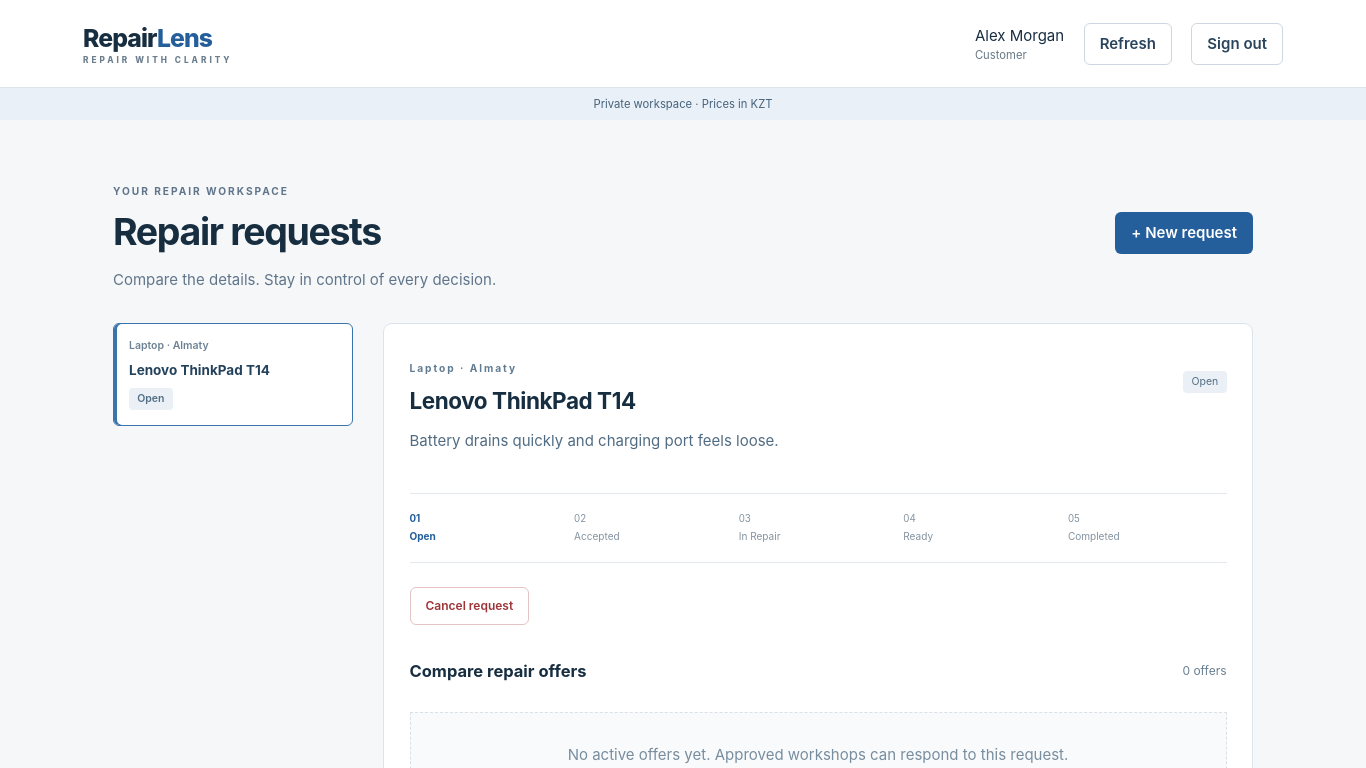
Test: clears private UI on session expiry and supports a fresh sign in
Expected: the heading "Repair requests" is shown, [113,209,381,254]
Click the button "Cancel request": (469, 606) [410,587,529,625]
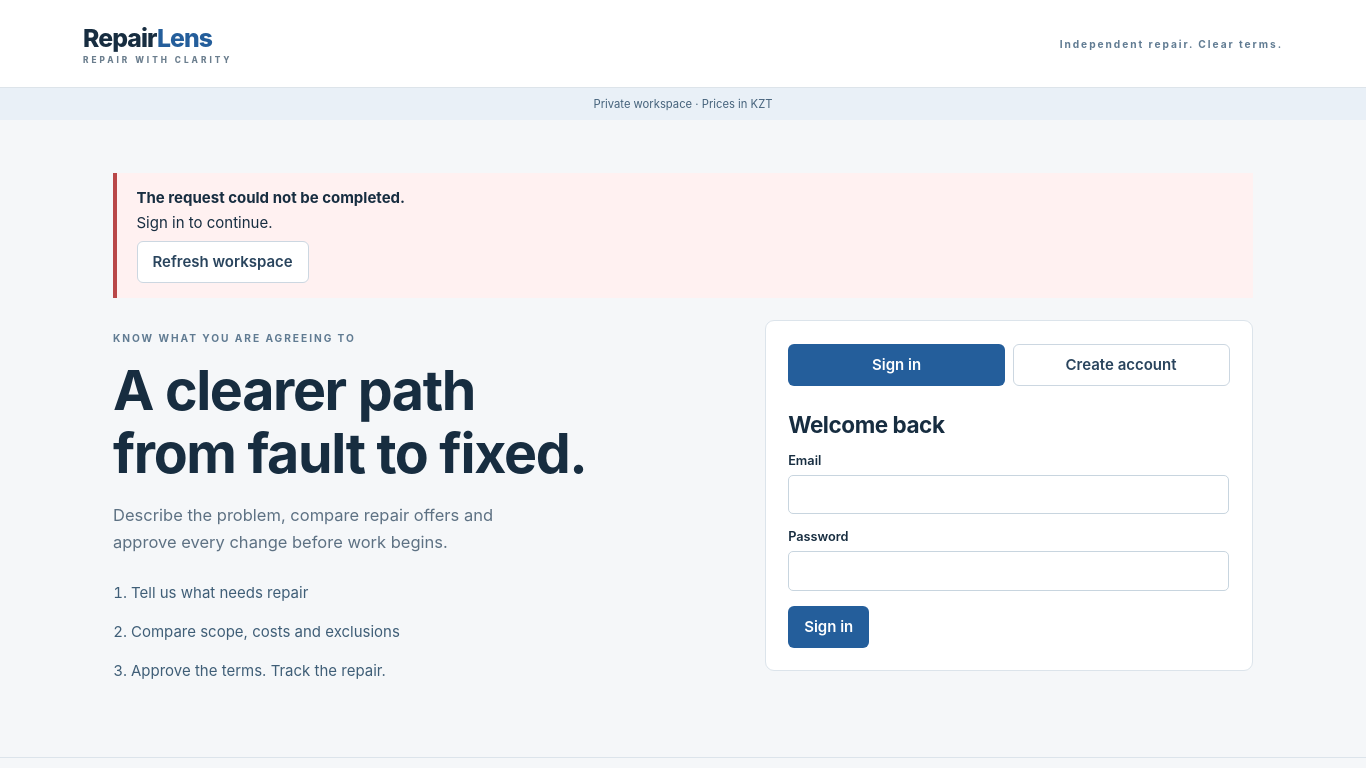
Result: the heading "Welcome back" is shown at [788,411,944,438]
Result: the button "ThinkPad T14" is gone
Result: the password field labelled "Password" is shown at [788,551,1230,590]
